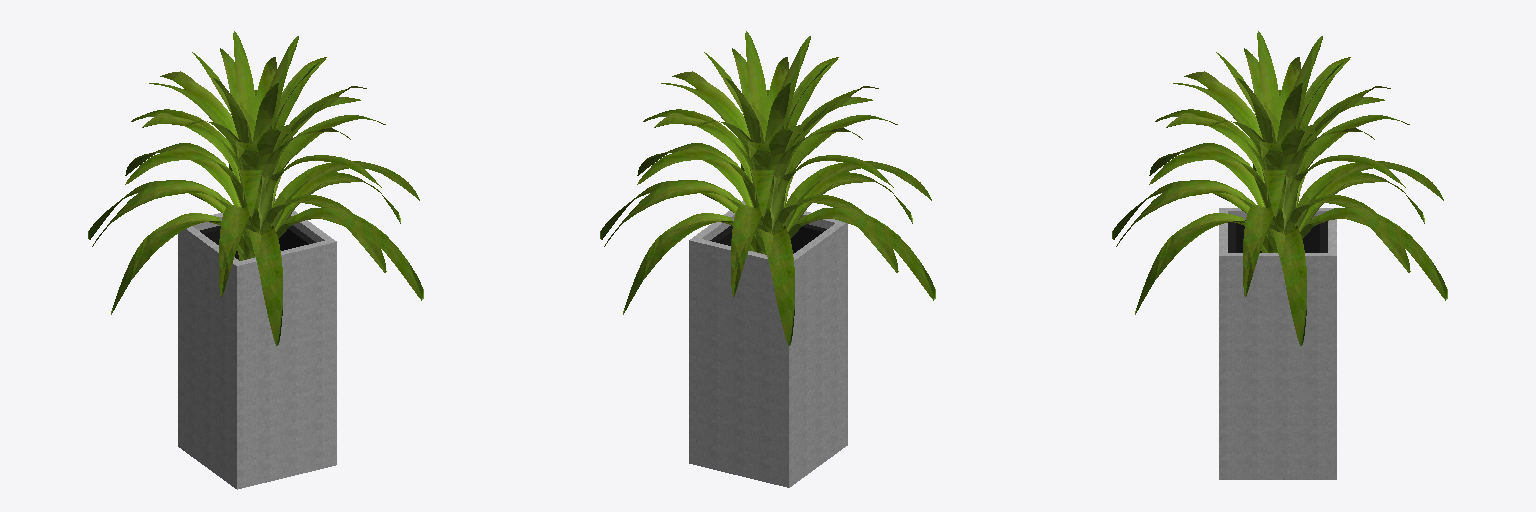
The picture shows the model from 3 angles: view 1: azimuth 30°, elevation 25°; view 2: azimuth 150°, elevation 25°; view 3: azimuth 270°, elevation 25°; orthographic projection.
Visible parts, largest first — view 1: Mesh38 Component_2_1 Model, Mesh20 Haddonstone_Planter_Corredo_Jardiniere_A230_Component_06_, Mesh8 Haddonstone_Planter_Corredo_Jardiniere_A230_Component_06_2, Mesh13 Haddonstone_Planter_Corredo_Jardiniere_A230_Component_06_, Mesh19 Haddonstone_Planter_Corredo_Jardiniere_A230_Component_06_, Mesh14 Haddonstone_Planter_Corredo_Jardiniere_A230_Component_06_, Mesh25 Haddonstone_Planter_Corredo_Jardiniere_A230_Component_06_, Mesh4 Haddonstone_Planter_Corredo_Jardiniere_A230_Component_06_1, Mesh7 Haddonstone_Planter_Corredo_Jardiniere_A230_Component_06_2, Mesh1 Haddonstone_Planter_Corredo_Jardiniere_A230_Component_06_1, Mesh27 Haddonstone_Planter_Corredo_Jardiniere_A230_Component_06_, Mesh9 Haddonstone_Planter_Corredo_Jardiniere_A230_Component_06_2 (+15 smaller); view 2: Mesh38 Component_2_1 Model, Mesh2 Haddonstone_Planter_Corredo_Jardiniere_A230_Component_06_1, Mesh32 Haddonstone_Planter_Corredo_Jardiniere_A230_Component_06_, Mesh7 Haddonstone_Planter_Corredo_Jardiniere_A230_Component_06_2, Mesh1 Haddonstone_Planter_Corredo_Jardiniere_A230_Component_06_1, Mesh8 Haddonstone_Planter_Corredo_Jardiniere_A230_Component_06_2, Mesh19 Haddonstone_Planter_Corredo_Jardiniere_A230_Component_06_, Mesh28 Haddonstone_Planter_Corredo_Jardiniere_A230_Component_06_, Mesh31 Haddonstone_Planter_Corredo_Jardiniere_A230_Component_06_, Mesh25 Haddonstone_Planter_Corredo_Jardiniere_A230_Component_06_, Mesh21 Haddonstone_Planter_Corredo_Jardiniere_A230_Component_06_, Mesh33 Haddonstone_Planter_Corredo_Jardiniere_A230_Component_06_ (+15 smaller); view 3: Mesh38 Component_2_1 Model, Mesh26 Haddonstone_Planter_Corredo_Jardiniere_A230_Component_06_, Mesh14 Haddonstone_Planter_Corredo_Jardiniere_A230_Component_06_, Mesh31 Haddonstone_Planter_Corredo_Jardiniere_A230_Component_06_, Mesh25 Haddonstone_Planter_Corredo_Jardiniere_A230_Component_06_, Mesh32 Haddonstone_Planter_Corredo_Jardiniere_A230_Component_06_, Mesh1 Haddonstone_Planter_Corredo_Jardiniere_A230_Component_06_1, Mesh22 Haddonstone_Planter_Corredo_Jardiniere_A230_Component_06_, Mesh13 Haddonstone_Planter_Corredo_Jardiniere_A230_Component_06_, Mesh19 Haddonstone_Planter_Corredo_Jardiniere_A230_Component_06_, Mesh3 Haddonstone_Planter_Corredo_Jardiniere_A230_Component_06_1, Mesh15 Haddonstone_Planter_Corredo_Jardiniere_A230_Component_06_ (+15 smaller).
Boxes of the visible parts, x1=… form: Mesh38 Component_2_1 Model: x1=178, y1=199, x2=336, y2=489; Mesh20 Haddonstone_Planter_Corredo_Jardiniere_A230_Component_06_: x1=243, y1=226, x2=282, y2=345; Mesh8 Haddonstone_Planter_Corredo_Jardiniere_A230_Component_06_2: x1=111, y1=213, x2=243, y2=314; Mesh13 Haddonstone_Planter_Corredo_Jardiniere_A230_Component_06_: x1=260, y1=195, x2=386, y2=272; Mesh19 Haddonstone_Planter_Corredo_Jardiniere_A230_Component_06_: x1=219, y1=205, x2=259, y2=296; Mesh14 Haddonstone_Planter_Corredo_Jardiniere_A230_Component_06_: x1=276, y1=208, x2=423, y2=300; Mesh25 Haddonstone_Planter_Corredo_Jardiniere_A230_Component_06_: x1=271, y1=161, x2=419, y2=228; Mesh4 Haddonstone_Planter_Corredo_Jardiniere_A230_Component_06_1: x1=233, y1=31, x2=257, y2=141; Mesh7 Haddonstone_Planter_Corredo_Jardiniere_A230_Component_06_2: x1=92, y1=181, x2=228, y2=246; Mesh1 Haddonstone_Planter_Corredo_Jardiniere_A230_Component_06_1: x1=125, y1=143, x2=240, y2=206; Mesh27 Haddonstone_Planter_Corredo_Jardiniere_A230_Component_06_: x1=265, y1=115, x2=385, y2=217; Mesh9 Haddonstone_Planter_Corredo_Jardiniere_A230_Component_06_2: x1=125, y1=149, x2=243, y2=207; Mesh38 Component_2_1 Model: x1=689, y1=200, x2=847, y2=487; Mesh2 Haddonstone_Planter_Corredo_Jardiniere_A230_Component_06_1: x1=756, y1=226, x2=794, y2=345; Mesh32 Haddonstone_Planter_Corredo_Jardiniere_A230_Component_06_: x1=623, y1=213, x2=755, y2=314; Mesh7 Haddonstone_Planter_Corredo_Jardiniere_A230_Component_06_2: x1=772, y1=195, x2=898, y2=272; Mesh1 Haddonstone_Planter_Corredo_Jardiniere_A230_Component_06_1: x1=731, y1=205, x2=771, y2=296; Mesh8 Haddonstone_Planter_Corredo_Jardiniere_A230_Component_06_2: x1=788, y1=208, x2=935, y2=300; Mesh19 Haddonstone_Planter_Corredo_Jardiniere_A230_Component_06_: x1=783, y1=161, x2=931, y2=228; Mesh28 Haddonstone_Planter_Corredo_Jardiniere_A230_Component_06_: x1=745, y1=31, x2=769, y2=141; Mesh31 Haddonstone_Planter_Corredo_Jardiniere_A230_Component_06_: x1=604, y1=181, x2=740, y2=246; Mesh25 Haddonstone_Planter_Corredo_Jardiniere_A230_Component_06_: x1=637, y1=143, x2=752, y2=206; Mesh21 Haddonstone_Planter_Corredo_Jardiniere_A230_Component_06_: x1=777, y1=115, x2=897, y2=217; Mesh33 Haddonstone_Planter_Corredo_Jardiniere_A230_Component_06_: x1=637, y1=149, x2=755, y2=207; Mesh38 Component_2_1 Model: x1=1219, y1=208, x2=1336, y2=479; Mesh26 Haddonstone_Planter_Corredo_Jardiniere_A230_Component_06_: x1=1268, y1=226, x2=1306, y2=345; Mesh14 Haddonstone_Planter_Corredo_Jardiniere_A230_Component_06_: x1=1135, y1=213, x2=1267, y2=314; Mesh31 Haddonstone_Planter_Corredo_Jardiniere_A230_Component_06_: x1=1284, y1=195, x2=1410, y2=272; Mesh25 Haddonstone_Planter_Corredo_Jardiniere_A230_Component_06_: x1=1243, y1=205, x2=1283, y2=296; Mesh32 Haddonstone_Planter_Corredo_Jardiniere_A230_Component_06_: x1=1300, y1=208, x2=1447, y2=300; Mesh1 Haddonstone_Planter_Corredo_Jardiniere_A230_Component_06_1: x1=1295, y1=161, x2=1443, y2=228; Mesh22 Haddonstone_Planter_Corredo_Jardiniere_A230_Component_06_: x1=1257, y1=31, x2=1281, y2=141; Mesh13 Haddonstone_Planter_Corredo_Jardiniere_A230_Component_06_: x1=1116, y1=181, x2=1252, y2=246; Mesh19 Haddonstone_Planter_Corredo_Jardiniere_A230_Component_06_: x1=1149, y1=143, x2=1264, y2=206; Mesh3 Haddonstone_Planter_Corredo_Jardiniere_A230_Component_06_1: x1=1289, y1=115, x2=1409, y2=217; Mesh15 Haddonstone_Planter_Corredo_Jardiniere_A230_Component_06_: x1=1149, y1=149, x2=1267, y2=207.
Size of the model in its own units: 1.19 by 1.45 by 1.11.
4 materials, 2 textured.